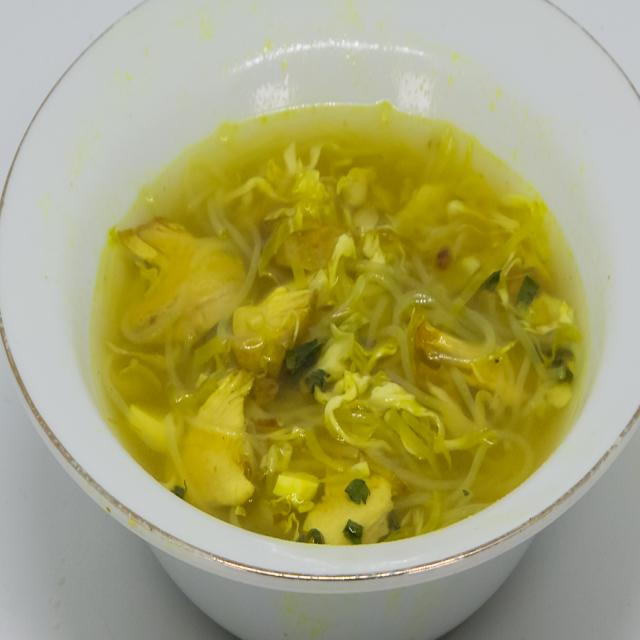Soto-Lamongan: (74, 86, 606, 561)
